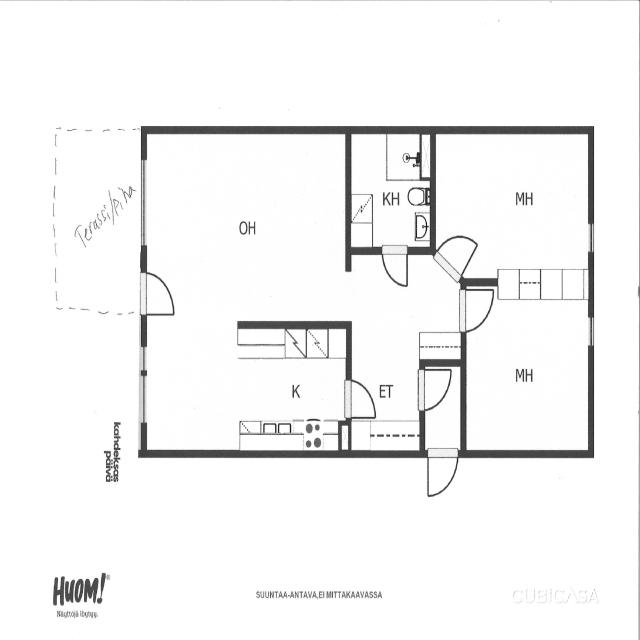door: (428, 238, 492, 272), (138, 269, 178, 317), (418, 456, 462, 498), (418, 367, 460, 411), (460, 287, 499, 332), (380, 243, 414, 288), (339, 384, 384, 416)
window: (139, 156, 149, 246), (138, 346, 146, 421), (587, 317, 596, 345), (590, 224, 596, 253)
zone: (143, 128, 350, 326), (141, 321, 353, 453), (432, 126, 594, 268), (462, 287, 592, 454), (349, 129, 433, 251)
